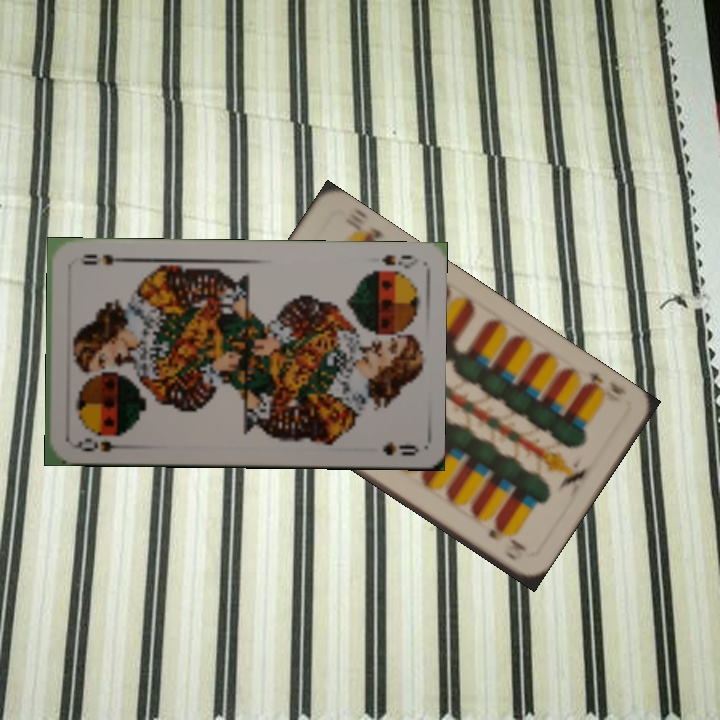E10: (578, 367, 630, 398)
SO: (69, 434, 128, 455), (378, 250, 421, 272)
